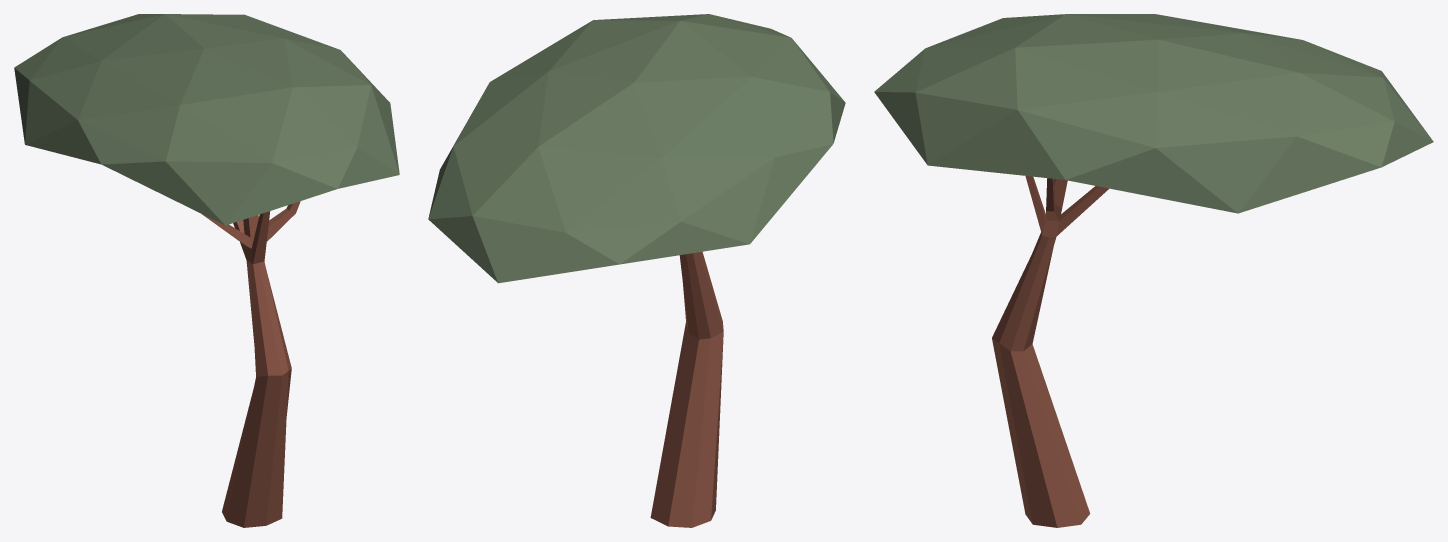
File: Trees1.gltf
The picture shows the model from 3 angles, left to right: view 1: azimuth 30°, elevation 25°; view 2: azimuth 150°, elevation 25°; view 3: azimuth 270°, elevation 25°; orthographic projection. The views are drawn at different scales.
Parts seen in each view (by area): view 1: Icosphere.004, Cube.004; view 2: Icosphere.004, Cube.004; view 3: Icosphere.004, Cube.004.
Part boxes in pixels (left/top/right/bottom): Icosphere.004: left=14, top=14, right=399, bottom=225; Cube.004: left=202, top=201, right=300, bottom=527; Icosphere.004: left=428, top=14, right=845, bottom=283; Cube.004: left=650, top=251, right=723, bottom=527; Icosphere.004: left=874, top=14, right=1433, bottom=213; Cube.004: left=992, top=176, right=1108, bottom=527.
Size of the model in its own units: 15 by 21.8 by 23.12.
